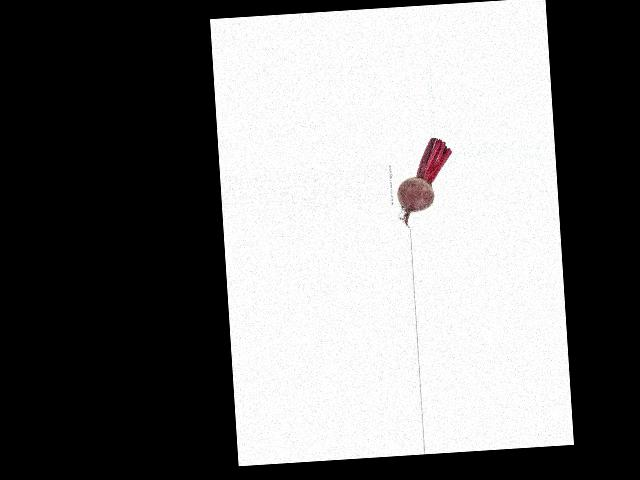beet: (393, 136, 455, 228)
